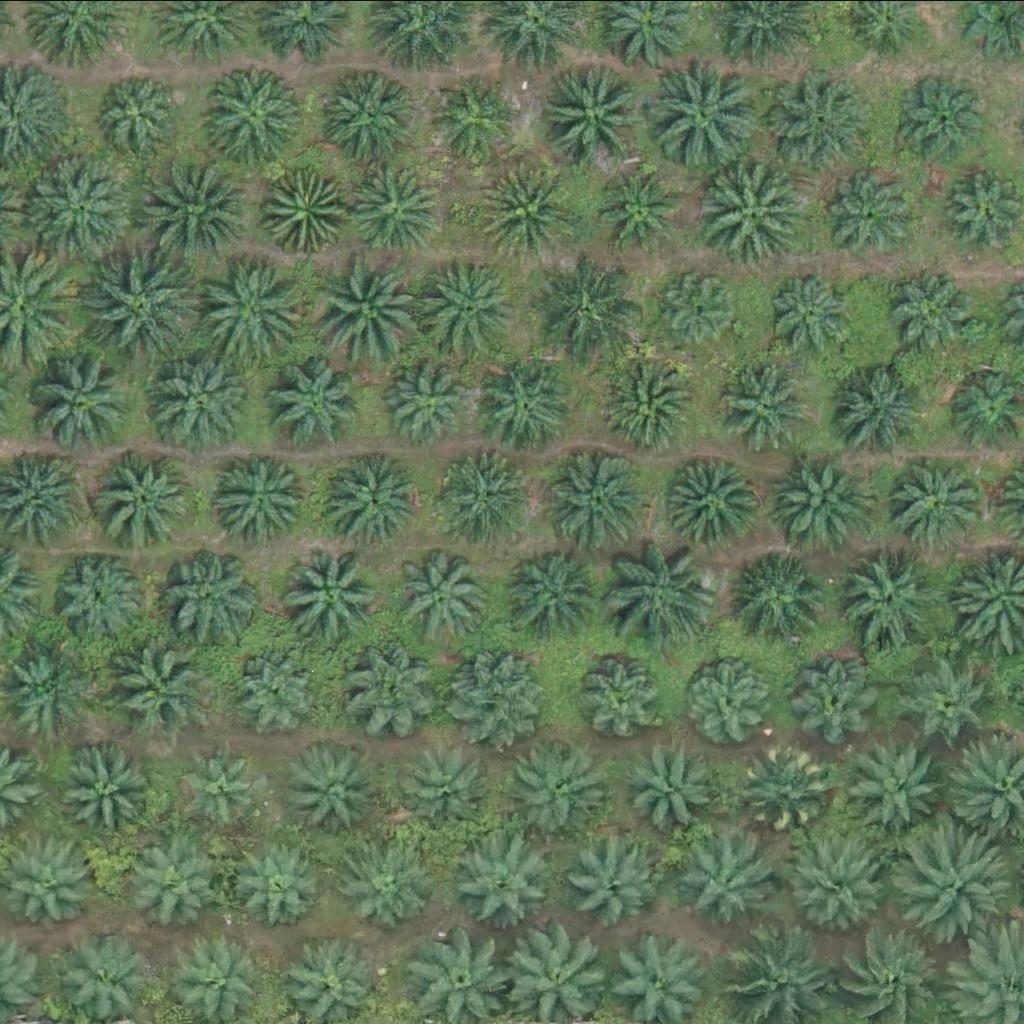Kelapa_Sawit: (653, 58, 766, 171), (609, 532, 722, 645), (525, 247, 638, 360), (200, 247, 313, 360), (84, 248, 197, 361), (905, 824, 1019, 936), (21, 148, 135, 260), (538, 53, 652, 165), (697, 159, 810, 271), (414, 249, 527, 361), (304, 254, 417, 366), (136, 156, 249, 268), (770, 74, 871, 174), (599, 357, 700, 457), (828, 355, 929, 455), (732, 545, 833, 645), (844, 549, 945, 649), (849, 734, 950, 834), (610, 923, 711, 1023), (413, 923, 514, 1023), (125, 833, 226, 933), (508, 739, 609, 839), (59, 738, 160, 838), (103, 638, 204, 738), (341, 639, 442, 739), (445, 641, 546, 741), (280, 538, 381, 638), (395, 545, 496, 645), (504, 541, 605, 641), (547, 447, 648, 547), (323, 448, 424, 548), (94, 446, 195, 546), (31, 350, 132, 450), (267, 355, 368, 455), (479, 352, 580, 452), (478, 162, 579, 262), (322, 63, 423, 163), (198, 64, 299, 164), (666, 450, 766, 550), (771, 449, 871, 549), (792, 840, 892, 940), (451, 832, 551, 932), (162, 548, 262, 648), (434, 440, 534, 540), (210, 445, 310, 545), (149, 351, 249, 451), (656, 261, 744, 349), (763, 272, 851, 360), (891, 268, 979, 356), (896, 75, 984, 163), (724, 359, 812, 447), (570, 842, 658, 930), (686, 841, 774, 929), (8, 840, 96, 928), (241, 843, 329, 931), (285, 741, 373, 829), (235, 646, 323, 734), (348, 163, 436, 251), (599, 167, 687, 255), (423, 69, 511, 157), (178, 748, 267, 835), (824, 172, 912, 259), (890, 455, 978, 542), (584, 652, 672, 739), (693, 655, 781, 742), (792, 652, 880, 739), (909, 655, 997, 742), (745, 745, 833, 832), (630, 746, 718, 833), (348, 845, 436, 932), (406, 747, 494, 834), (56, 552, 144, 639), (381, 358, 469, 445), (256, 166, 344, 253), (98, 65, 186, 152)
